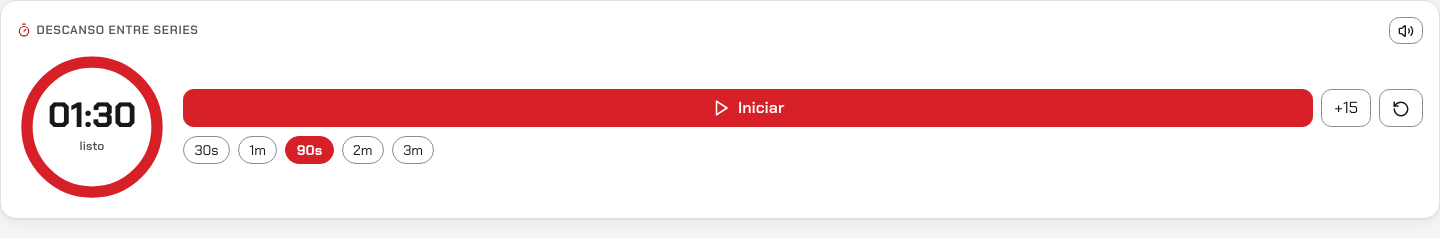
Scenario: RestTimer: pausa y +15 › reiniciar vuelve al total y detiene el conteo
Click the button "Iniciar".
click(748, 108)  # box x1=183 y1=89 x2=1313 y2=127
Wait 5000 ms
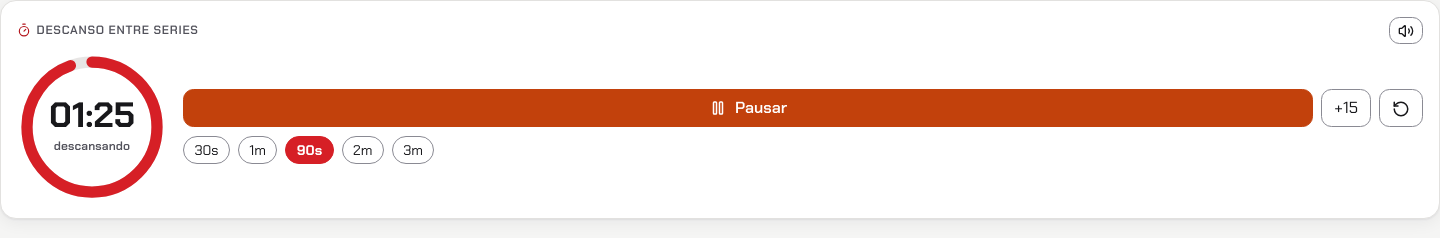
Click the button named "Reiniciar".
click(1401, 108)  # box x1=1379 y1=89 x2=1423 y2=127
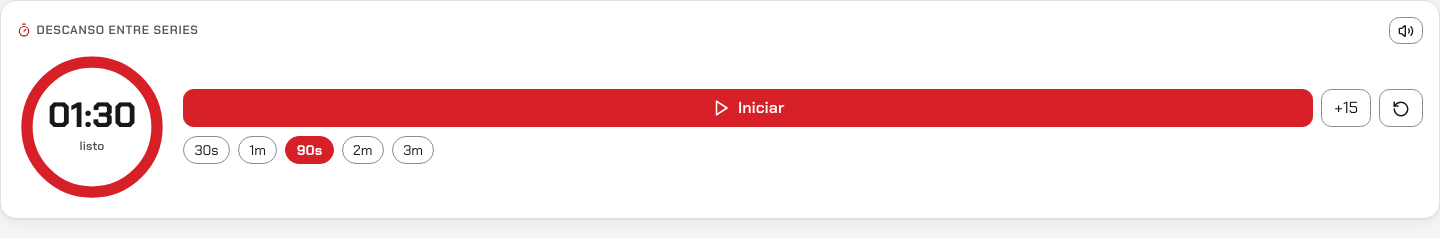
Result: the text with class "timer-caption" reads "listo" at x1=80 y1=138 x2=104 y2=154
